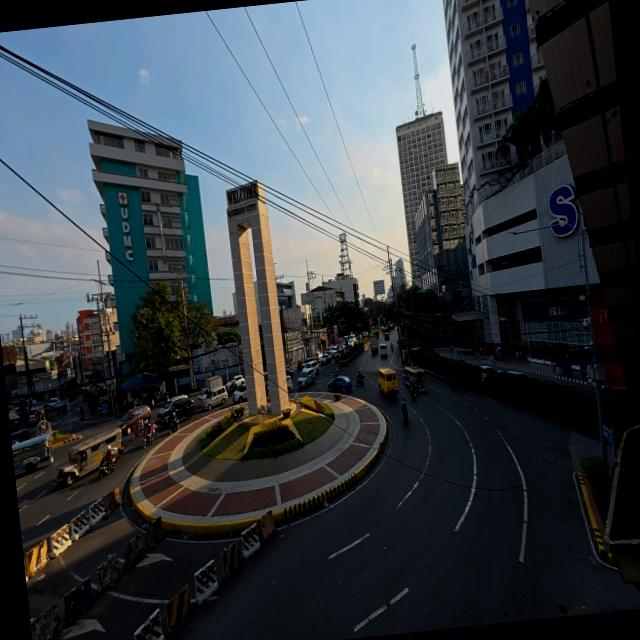Jeepneys: (56, 428, 123, 486), (12, 434, 53, 474), (404, 367, 425, 392)
car: (117, 405, 152, 435), (159, 399, 195, 427), (158, 395, 188, 421), (199, 385, 228, 410), (328, 375, 352, 392), (298, 367, 315, 388), (226, 375, 245, 393), (233, 383, 247, 404), (11, 429, 30, 444), (303, 359, 319, 374), (30, 407, 44, 424), (507, 370, 529, 377), (321, 353, 332, 365), (286, 376, 293, 392), (303, 356, 317, 364), (48, 397, 59, 407), (285, 365, 294, 377), (315, 351, 323, 362), (331, 347, 338, 357), (384, 332, 390, 340)
motorcycle: (99, 458, 116, 479), (132, 419, 148, 440), (142, 432, 154, 448), (155, 391, 168, 405), (169, 418, 179, 434), (402, 403, 408, 421), (357, 375, 365, 386), (79, 408, 85, 422), (410, 388, 416, 400), (297, 361, 302, 371)
trucks: (205, 375, 224, 390), (369, 331, 379, 354)
vans: (377, 368, 398, 396), (378, 342, 388, 358)
